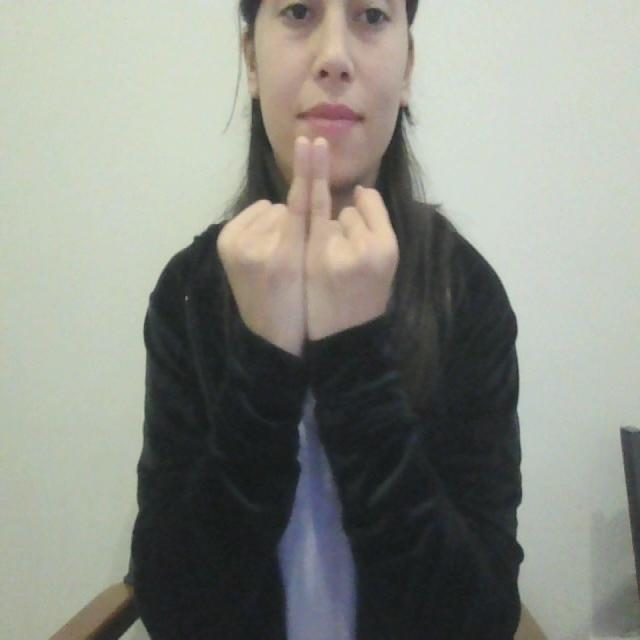Kardes: (213, 133, 402, 364)
